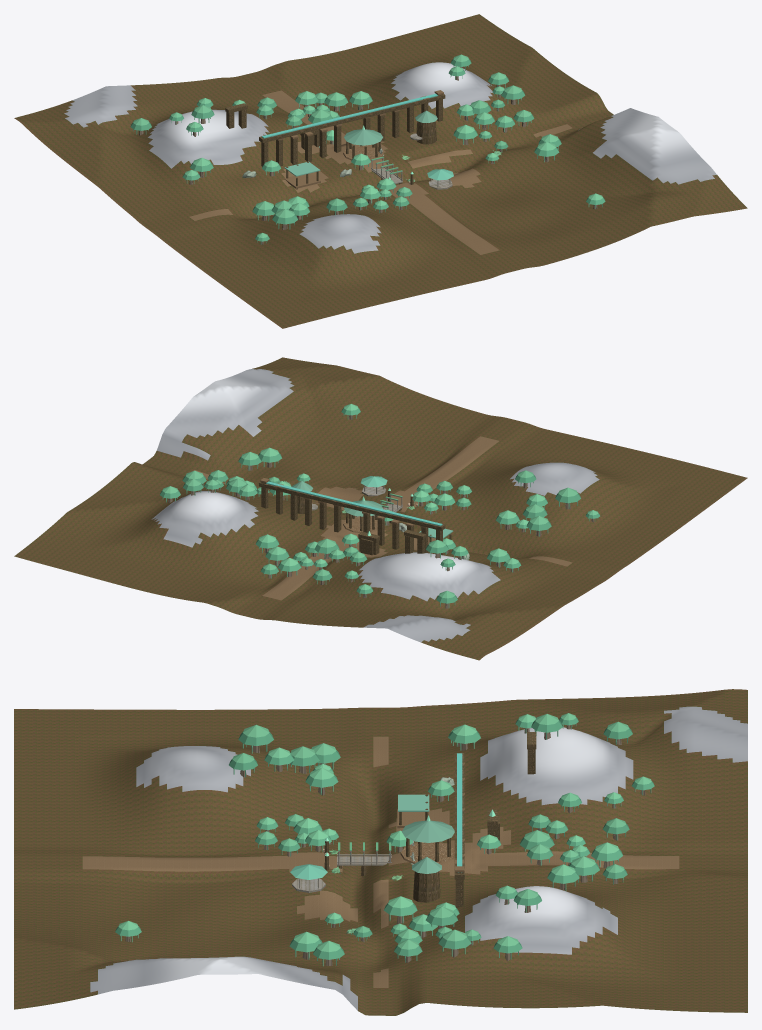
Rendered from world.glb.
The picture shows the model from 3 angles, top to bottom: view 1: azimuth 30°, elevation 25°; view 2: azimuth 150°, elevation 25°; view 3: azimuth 270°, elevation 25°; orthographic projection. The views are drawn at different scales.
Parts seen in each view (by area): view 1: oakhaven_Terrain, oakhaven_ImportedCatalogAndFlora, oakhaven_Roads, oakhaven_Masonry, oakhaven_Timber; view 2: oakhaven_Terrain, oakhaven_ImportedCatalogAndFlora, oakhaven_Roads, oakhaven_Masonry; view 3: oakhaven_Terrain, oakhaven_ImportedCatalogAndFlora, oakhaven_Roads, oakhaven_Masonry, oakhaven_Timber.
Part boxes in pixels (left/top/right/bottom): oakhaven_Terrain: left=14, top=14, right=747, bottom=328; oakhaven_ImportedCatalogAndFlora: left=64, top=54, right=716, bottom=253; oakhaven_Roads: left=189, top=90, right=572, bottom=254; oakhaven_Masonry: left=225, top=94, right=445, bottom=190; oakhaven_Timber: left=371, top=133, right=452, bottom=189; oakhaven_Terrain: left=14, top=357, right=747, bottom=660; oakhaven_ImportedCatalogAndFlora: left=151, top=369, right=599, bottom=642; oakhaven_Roads: left=193, top=436, right=572, bottom=600; oakhaven_Masonry: left=259, top=482, right=451, bottom=555; oakhaven_Terrain: left=14, top=689, right=747, bottom=1015; oakhaven_ImportedCatalogAndFlora: left=90, top=706, right=747, bottom=1010; oakhaven_Roads: left=82, top=736, right=679, bottom=987; oakhaven_Masonry: left=324, top=732, right=536, bottom=907; oakhaven_Timber: left=292, top=851, right=391, bottom=892.
Bounding box in the file's own units: 224 × 31.22 × 224.
Materials: 5 (4 with a texture image).
